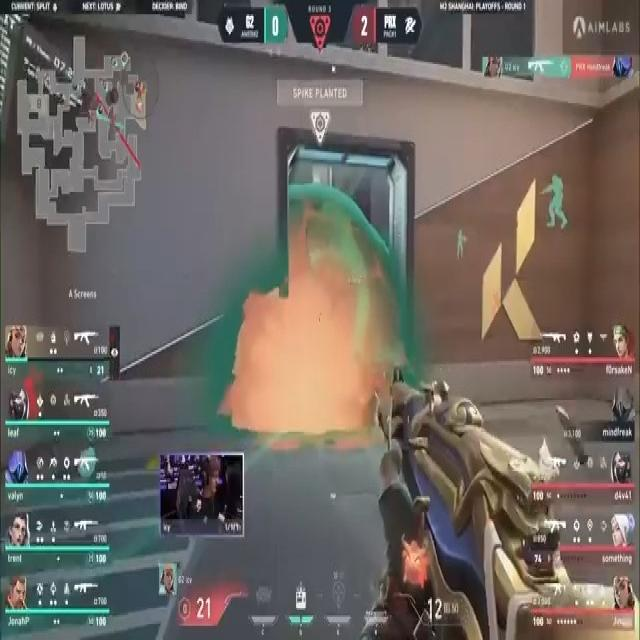ally behind wall: (542, 175, 569, 230), (455, 228, 468, 261)
